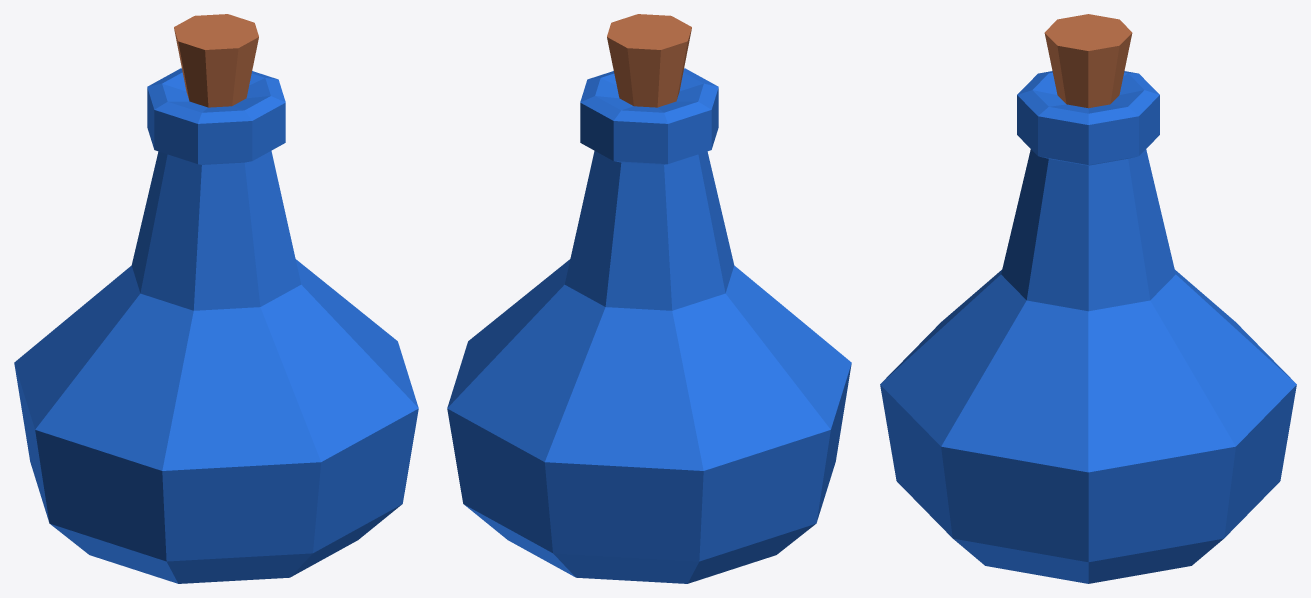
Rendered from ManaPotion.fbx.
3 views of the same model, side by side, from view 1: azimuth 30°, elevation 25°; view 2: azimuth 150°, elevation 25°; view 3: azimuth 270°, elevation 25° (orthographic).
Visible parts, largest first — view 1: ManaPotion; view 2: ManaPotion; view 3: ManaPotion.
Part boxes in pixels (x1,y1,x2,y2): ManaPotion: (14,14,418,583); ManaPotion: (447,14,851,583); ManaPotion: (880,14,1296,583).
Bounding box in the file's own units: 64.91 × 84.13 × 64.91.
